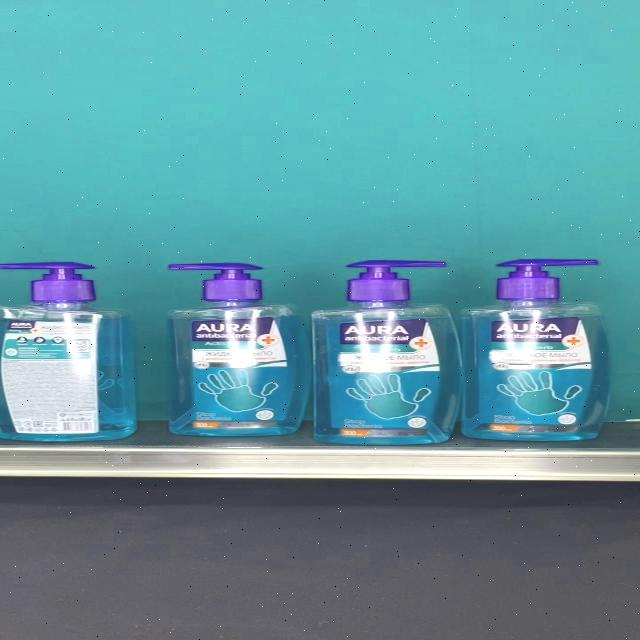Bottle: (311, 258, 464, 446), (458, 258, 612, 441), (0, 260, 138, 441), (169, 262, 310, 436)
Cap: (494, 258, 596, 302), (346, 259, 448, 301), (0, 261, 95, 301), (169, 262, 264, 300)
